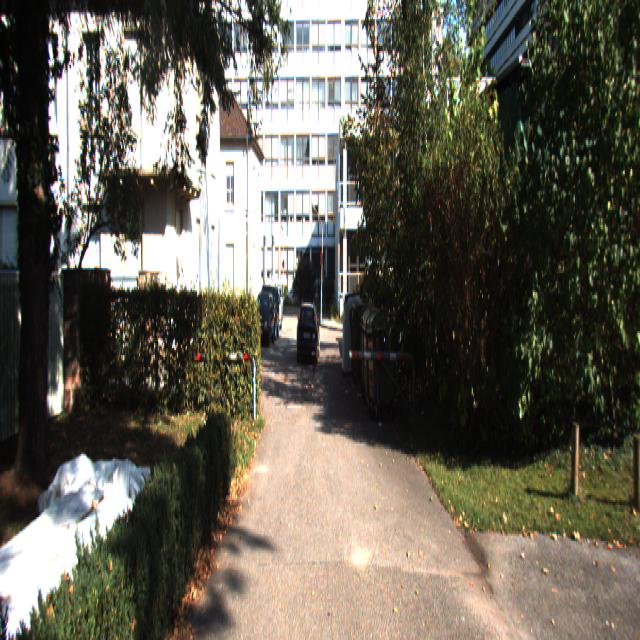Car: (296, 301, 321, 364), (251, 292, 275, 346), (259, 284, 280, 344)
